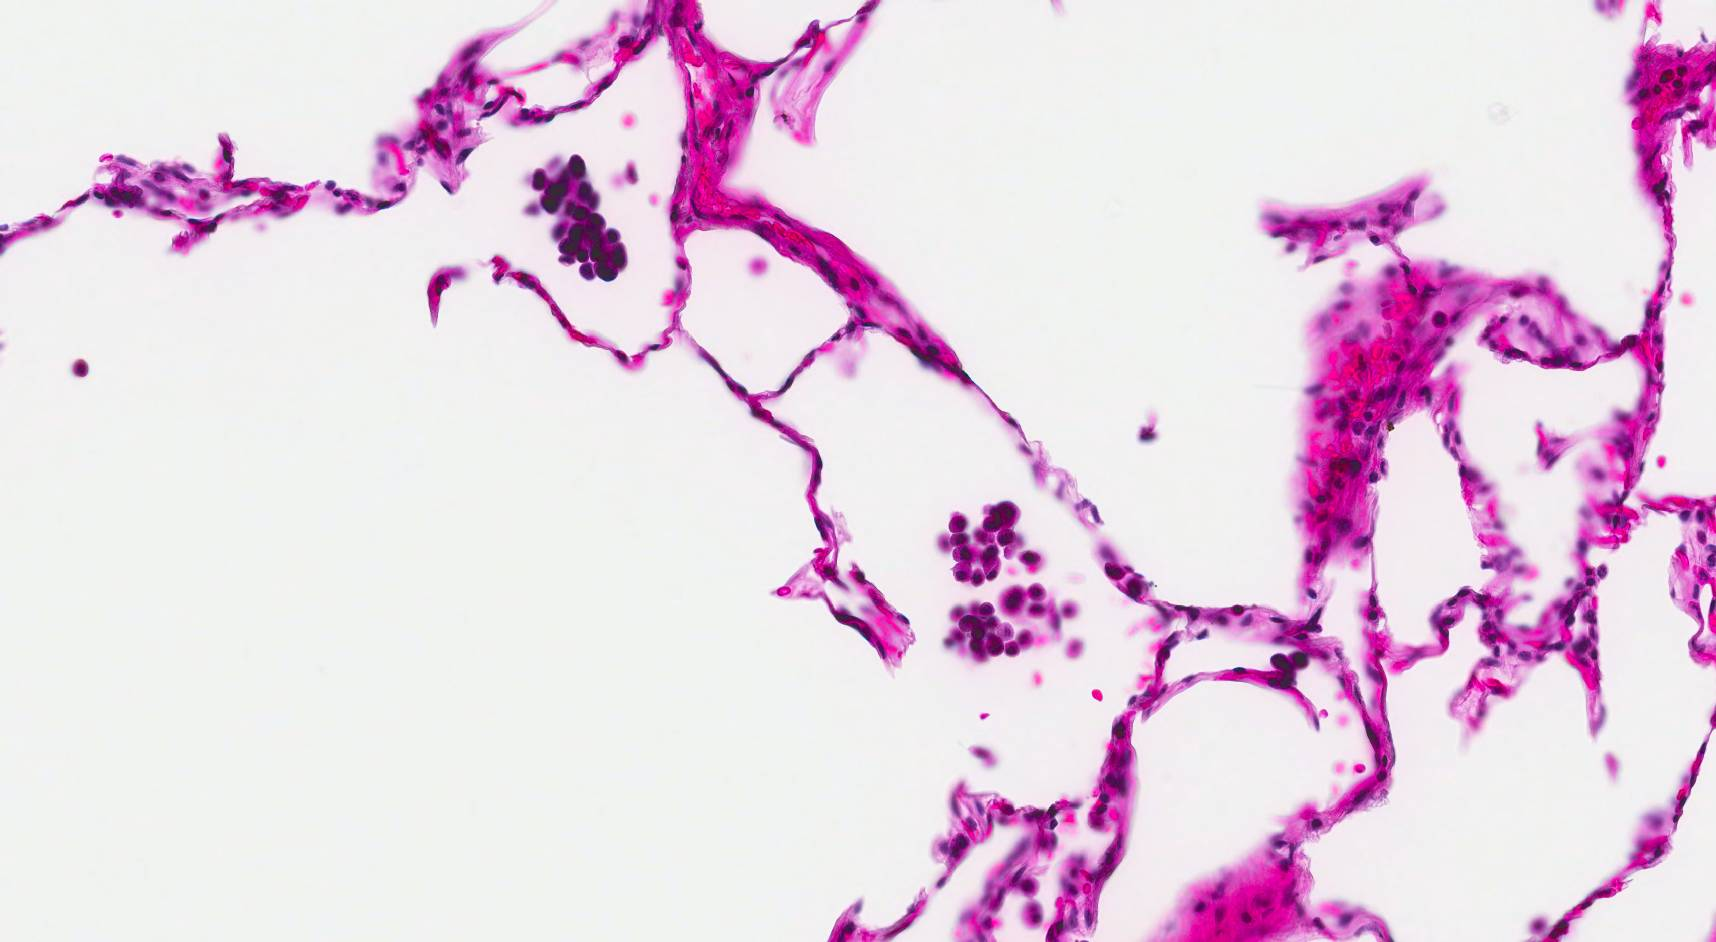stas: (525, 151, 632, 285)
